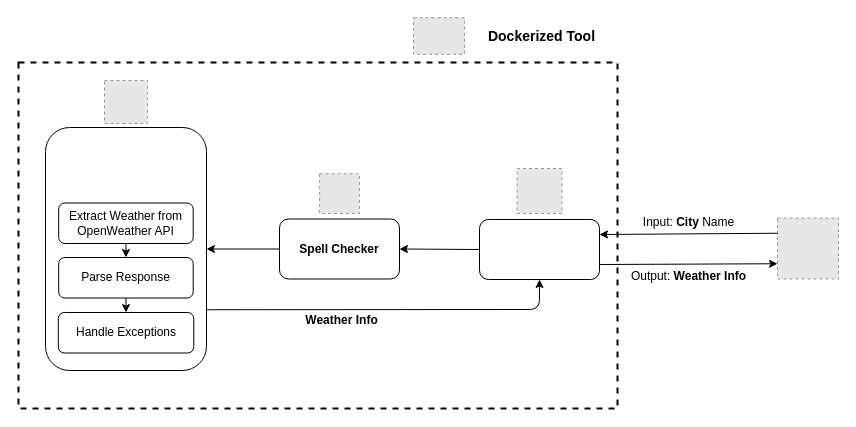
Image size: 856x427. Some labels were removed from this diagram. Grey dashed boxes stand in for pictures. The box of each missing label's shape, as (x1, y1, x2, y2) in pixels:
Fetch Weather Module: (44, 126, 206, 370)
WeatherTool: (478, 218, 600, 280)
